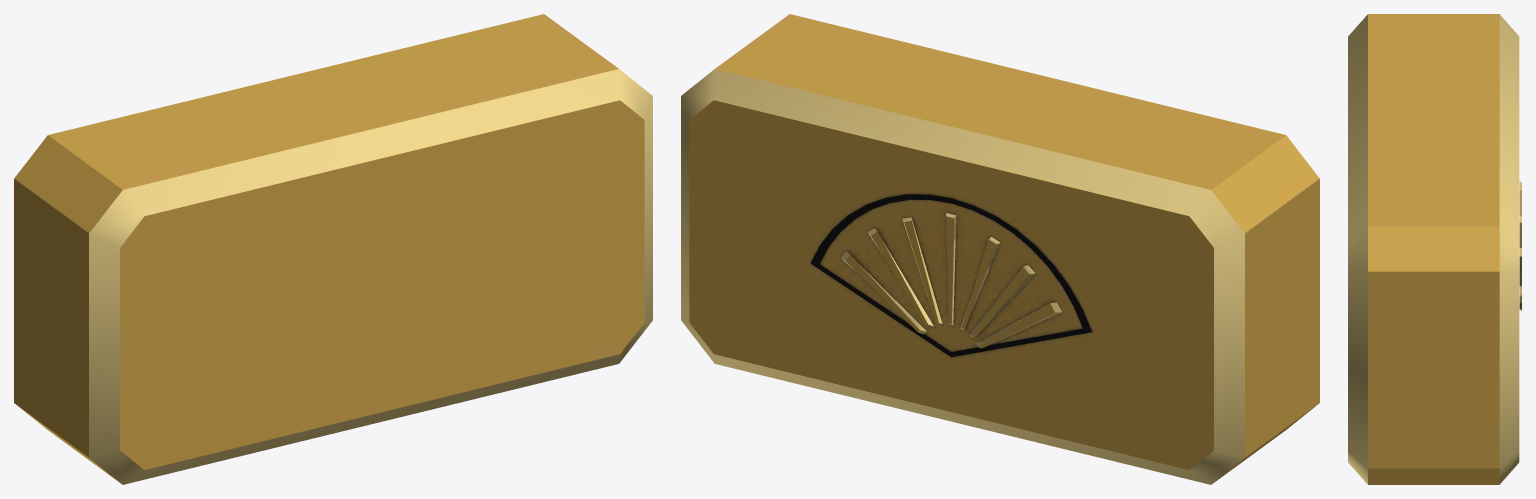
The picture shows the model from 3 angles, left to right: view 1: azimuth 30°, elevation 25°; view 2: azimuth 150°, elevation 25°; view 3: azimuth 270°, elevation 25°; orthographic projection. The views are drawn at different scales.
Parts seen in each view (by area): view 1: Warm_polished_gold, Fine_brushed_gold_face, Champagne_chamfers; view 2: Fine_brushed_gold_face, Champagne_chamfers, Warm_polished_gold, Onyx_lacquer_engraving; view 3: Warm_polished_gold, Fine_brushed_gold_face, Champagne_chamfers.
Part boxes in pixels (bbox=[...]): Warm_polished_gold: bbox=[14, 100, 644, 483]; Fine_brushed_gold_face: bbox=[48, 14, 618, 189]; Champagne_chamfers: bbox=[89, 69, 652, 484]; Fine_brushed_gold_face: bbox=[689, 14, 1285, 469]; Champagne_chamfers: bbox=[681, 69, 1244, 484]; Warm_polished_gold: bbox=[845, 135, 1319, 483]; Onyx_lacquer_engraving: bbox=[810, 194, 1091, 357]; Warm_polished_gold: bbox=[1368, 226, 1499, 484]; Fine_brushed_gold_face: bbox=[1368, 14, 1499, 226]; Champagne_chamfers: bbox=[1348, 14, 1521, 484].
Size of the model in its own units: 0.92 by 0.46 by 0.28.
4 materials, 4 textured.
